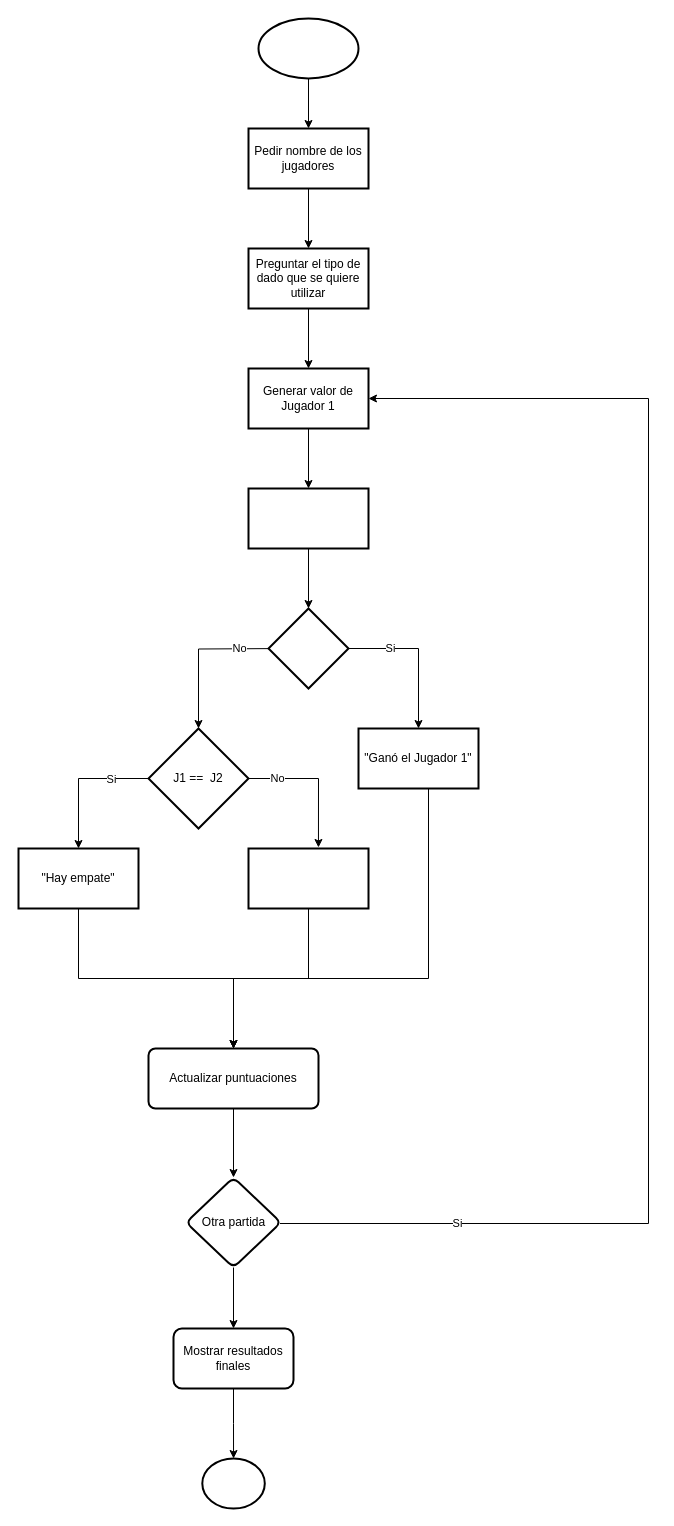
This 674x1526 diagram has some shape labels left out. The shapes that lost their labels are listed below. From the top down, each one's centre as x and y in pixels, then its label:
(308,48): Inicio
(308,518): General valor de Jugador 2
(308,648): J1 > J2
(308,878): "Ganó el Jugador 2"
(233,1483): Fin
